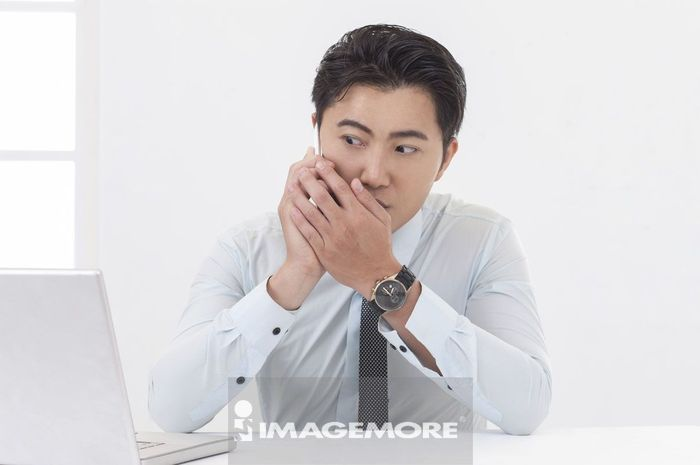phone: (310, 123, 323, 220)
talk: (276, 117, 435, 279)
